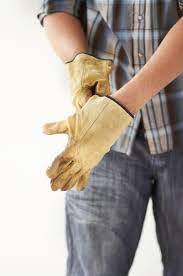gloves: (40, 96, 128, 204)
